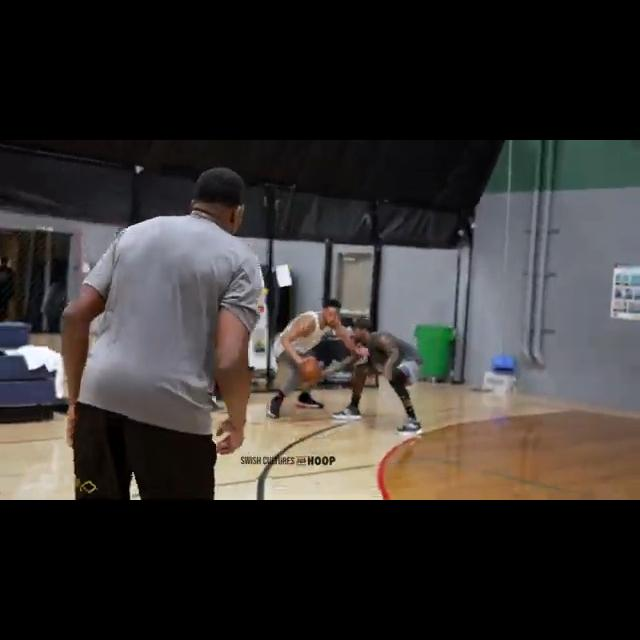basketball: (297, 358, 324, 385)
person: (54, 167, 276, 500), (265, 299, 371, 419), (333, 316, 431, 437)
